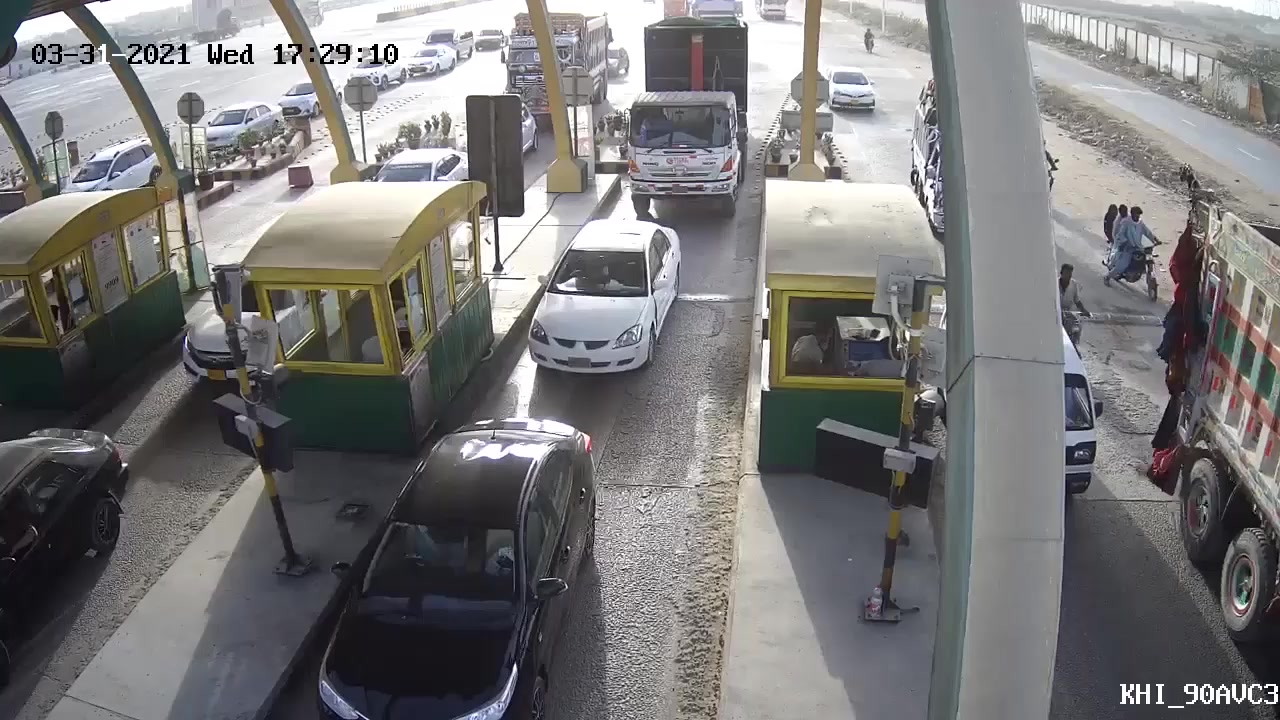F1: (509, 204, 687, 383)
